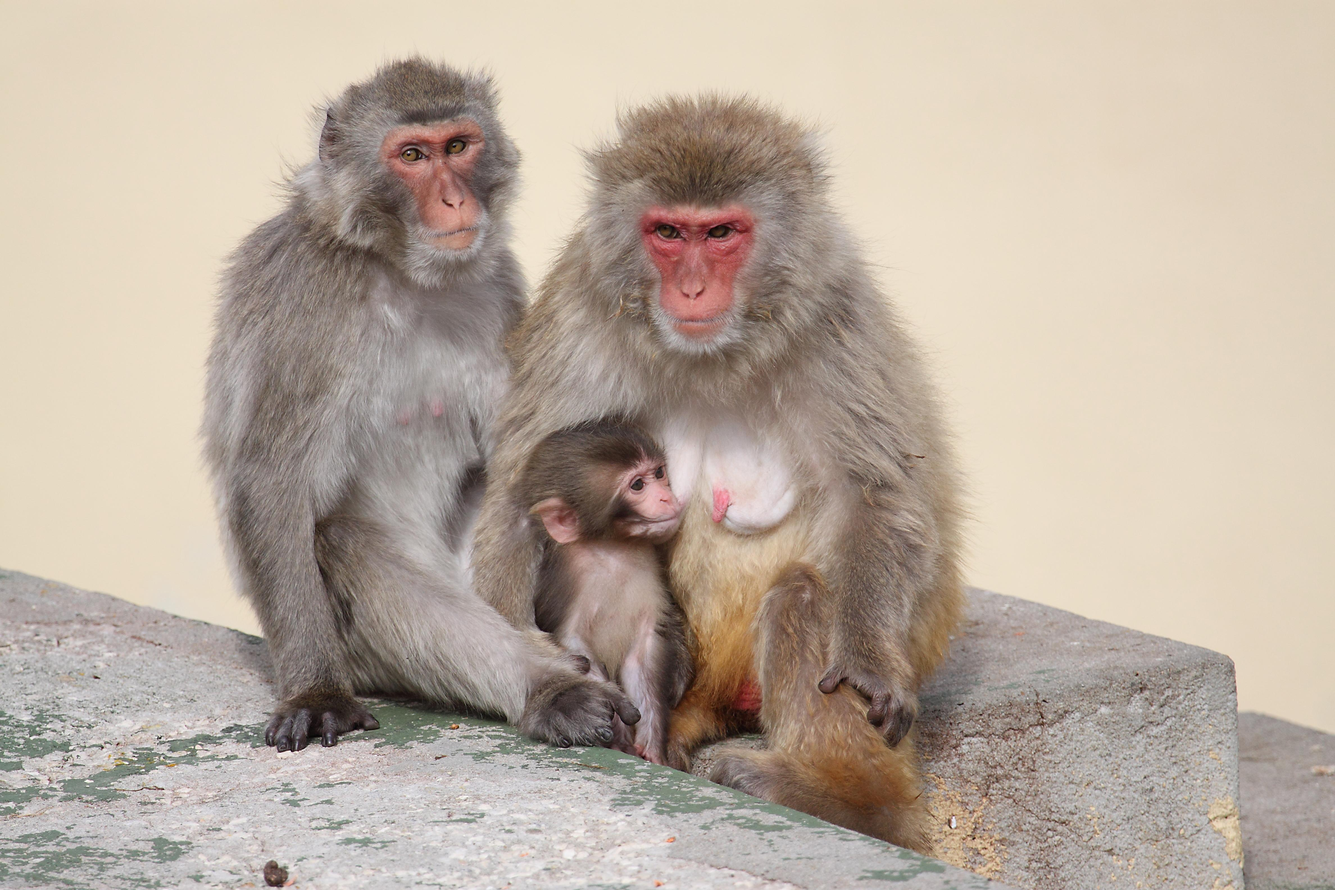monkey: (208, 59, 966, 860)
